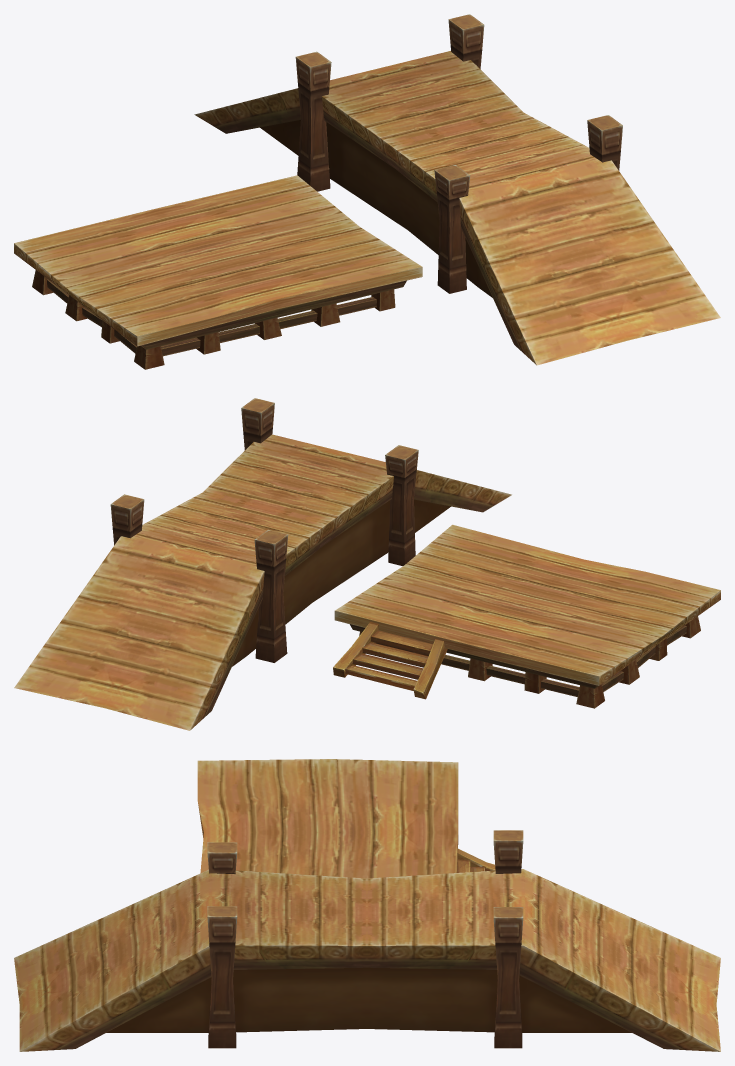
File: mu_qiao_001.FBX
The picture shows the model from 3 angles, top to bottom: view 1: azimuth 30°, elevation 25°; view 2: azimuth 150°, elevation 25°; view 3: azimuth 270°, elevation 25°; orthographic projection. The views are drawn at different scales.
Visible parts, largest first — view 1: mu_qiao_001_a, mu_qiao_001_b; view 2: mu_qiao_001_a, mu_qiao_001_b; view 3: mu_qiao_001_a, mu_qiao_001_b.
Boxes of the visible parts, <box> form: mu_qiao_001_a: <box>194,14,720,365</box>; mu_qiao_001_b: <box>14,175,422,369</box>; mu_qiao_001_a: <box>14,398,511,730</box>; mu_qiao_001_b: <box>333,524,720,708</box>; mu_qiao_001_a: <box>14,830,720,1051</box>; mu_qiao_001_b: <box>197,759,495,878</box>.
Bounding box in the file's own units: 952 × 235 × 1128.
1 material, 1 textured.
